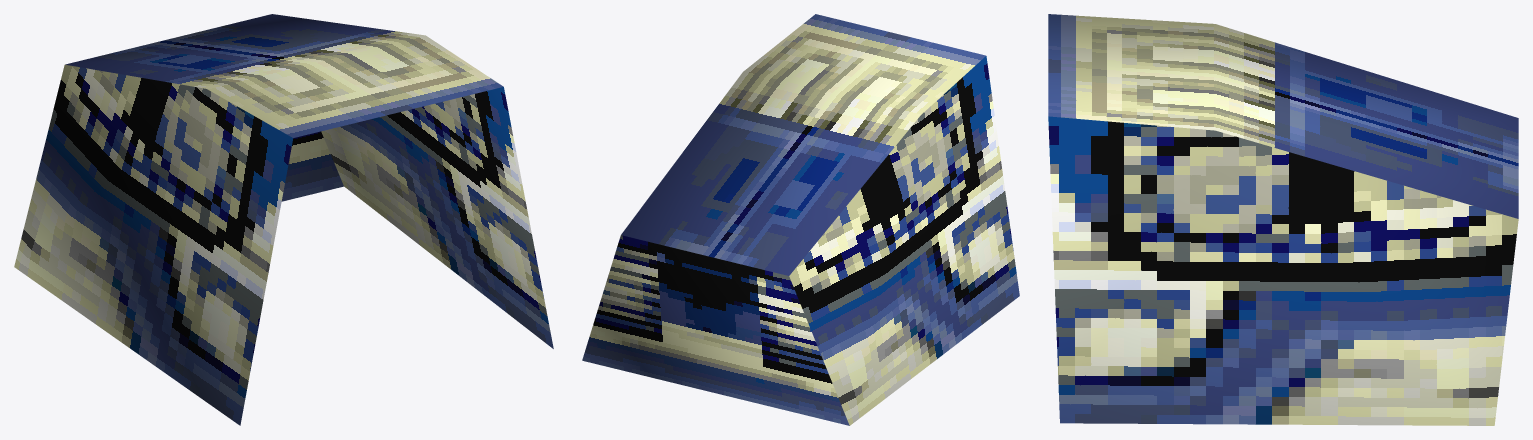
File: DrillTruckZ_Anim.glb
3 renders of one model, left to right at view 1: azimuth 30°, elevation 25°; view 2: azimuth 150°, elevation 25°; view 3: azimuth 270°, elevation 25°, orthographic. The views are drawn at different scales.
Visible parts, largest first — view 1: DrillTruckZ_Anim_part00; view 2: DrillTruckZ_Anim_part00; view 3: DrillTruckZ_Anim_part00.
Boxes of the visible parts, x1,y1,x2,y2 form: DrillTruckZ_Anim_part00: (14,14,553,425); DrillTruckZ_Anim_part00: (582,14,1019,425); DrillTruckZ_Anim_part00: (1048,14,1518,425).
Bounding box in the file's own units: 7.52 × 6.11 × 9.32.
Materials: 3 (3 with a texture image).
